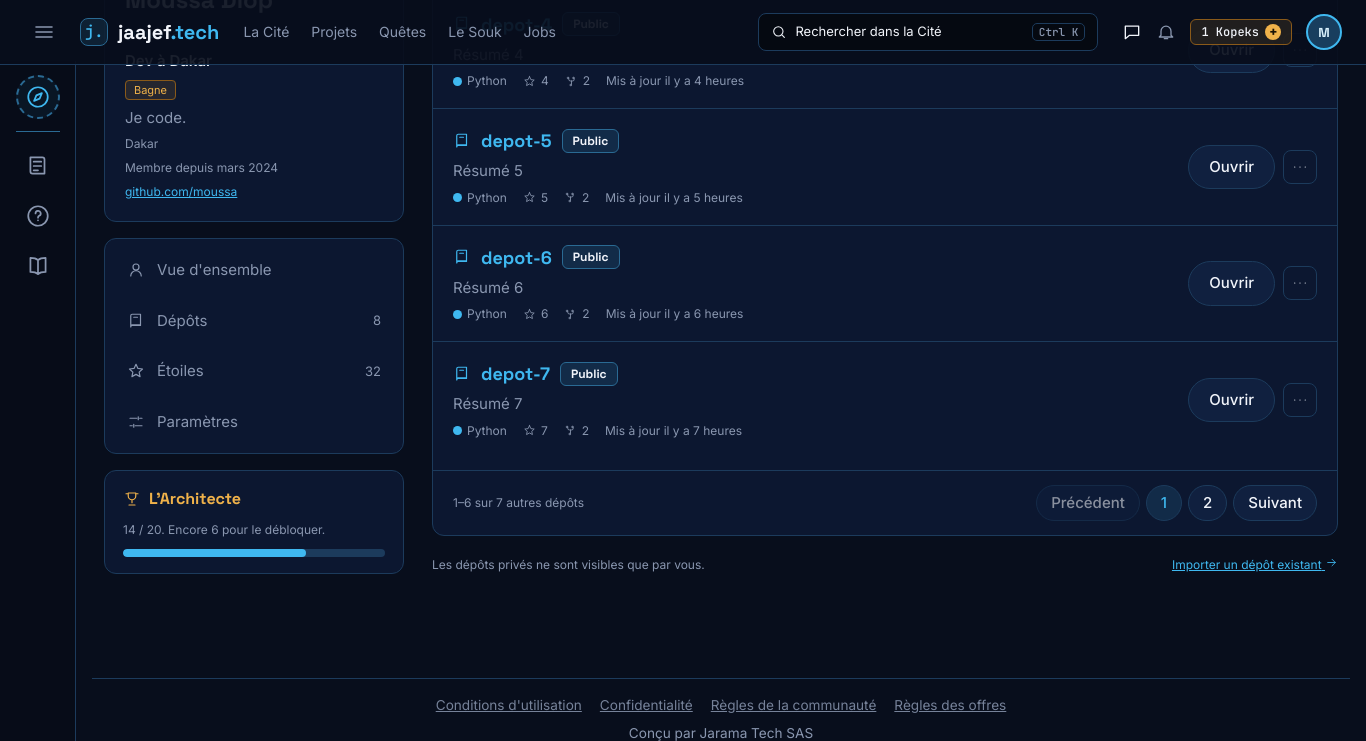
Test: My repositories › marks private and unconfirmed repositories
(page scrolled)
Click the button named "Page 2" at (1208, 503), box [1188, 484, 1227, 521]
(page scrolled)
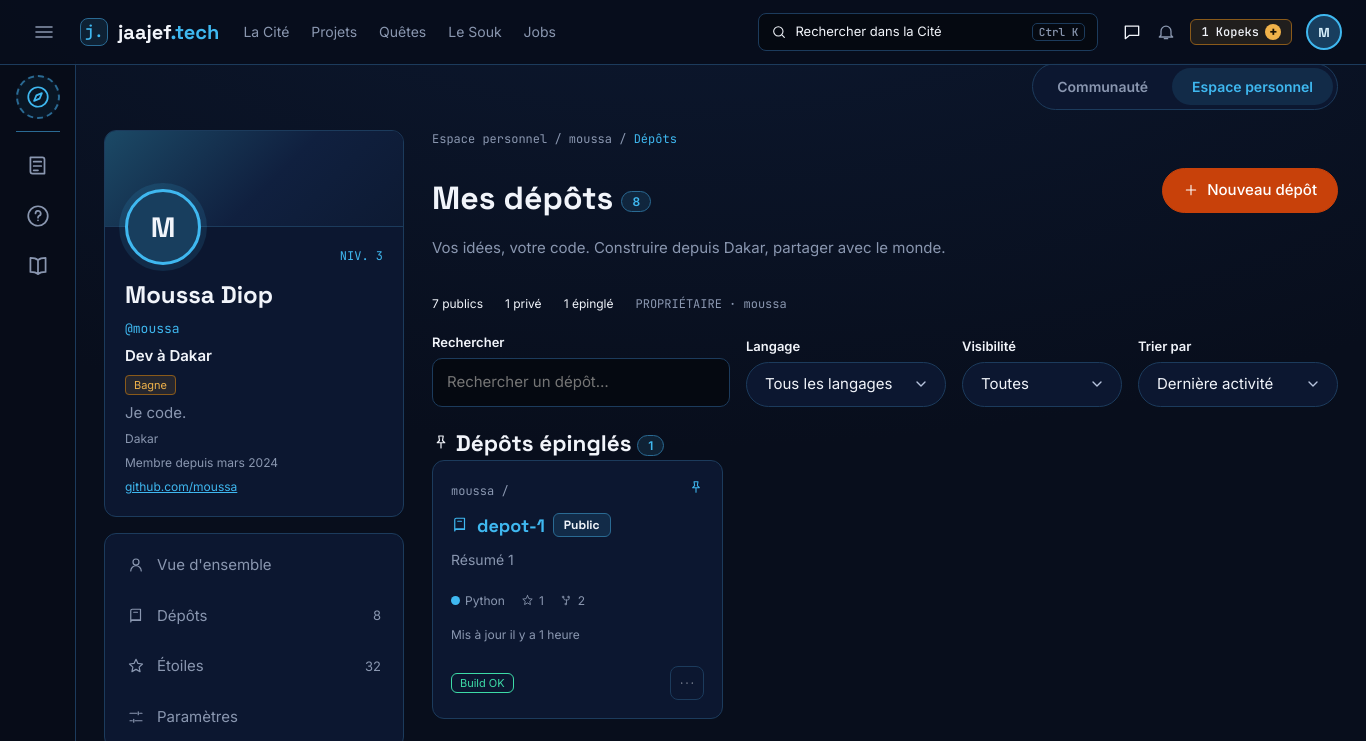
Select "Privés" in the dropdown labelled "Visibilité" at (1042, 384), box [962, 362, 1122, 406]
(page scrolled)
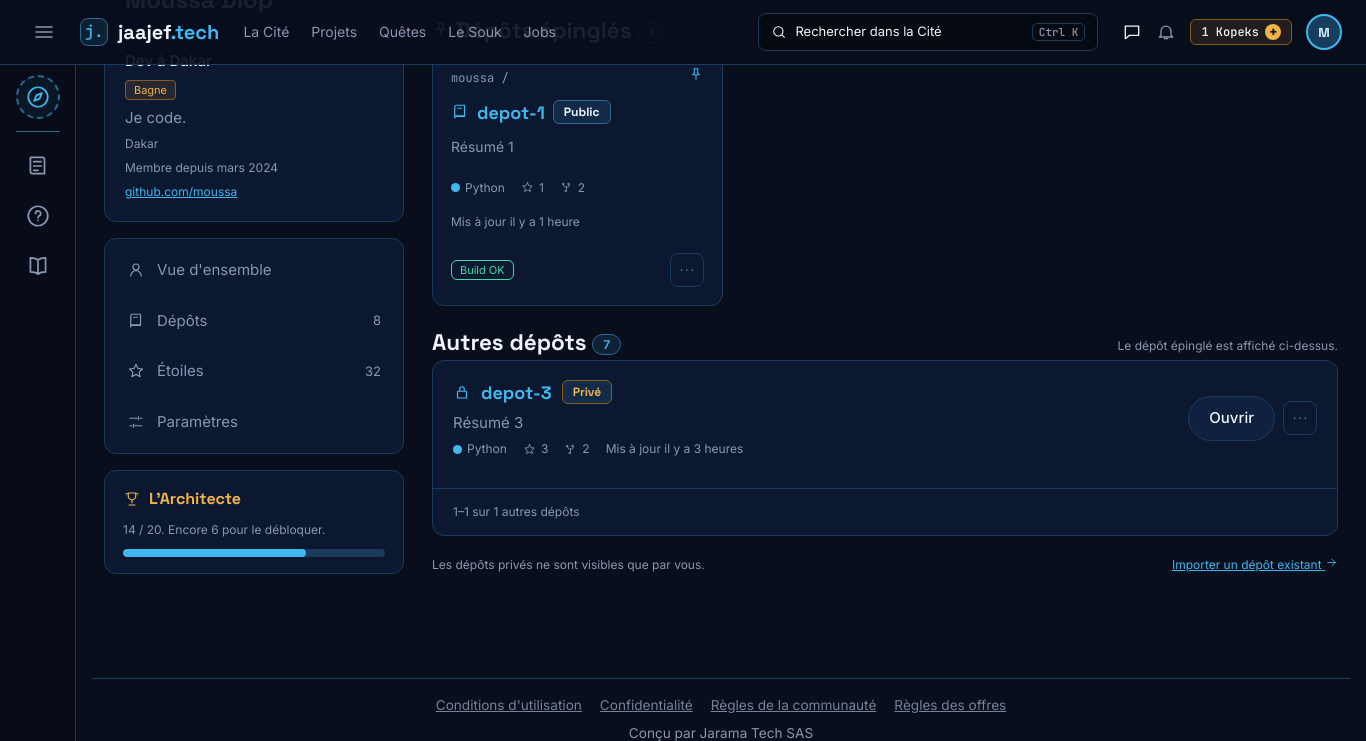
Result: the text "Privé" is shown at [562, 380, 612, 404]
